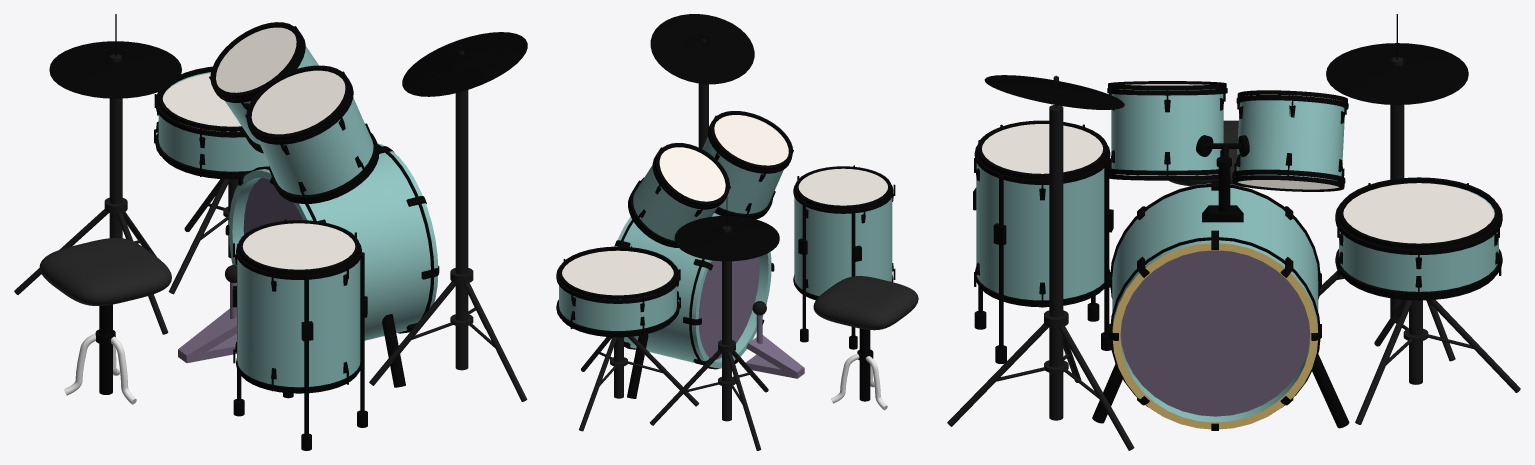
The model's file is drum set-01.fbx.
The picture shows the model from 3 angles, left to right: view 1: azimuth 30°, elevation 25°; view 2: azimuth 150°, elevation 25°; view 3: azimuth 270°, elevation 25°; orthographic projection. The views are drawn at different scales.
Visible parts, largest first — view 1: Cylinder_11_2, Cylinder_13_2, Subdivision_Surface_1, Disc_2, Cylinder_14_2, Disc, Cylinder_1_13, Cylinder_1_11, Cylinder_4_3, Cylinder_1_15, Cylinder_17, Cylinder_16 (+25 smaller); view 2: Cylinder_11_2, Cylinder_13_2, Disc, Subdivision_Surface_1, Cylinder_16, Disc_2, Cylinder_17, Cylinder_1_13, Cylinder_1_11, Cylinder_1_15, Cylinder_15, Cylinder_14_2 (+21 smaller); view 3: Cylinder_11_2, Cylinder_13_2, Cylinder_14_2, Cylinder_16, Cylinder_15, Disc_2, Cylinder_17, Cylinder_4_3, Cylinder_1_11, Disc, Tube_2_7, Tube_3 (+27 smaller).
Part boxes in pixels (x1,y1,x2,y2): Cylinder_11_2: (229,143,438,340); Cylinder_13_2: (237,259,360,387); Subdivision_Surface_1: (39,238,171,305); Disc_2: (49,41,181,97); Cylinder_14_2: (258,98,373,195); Disc: (402,32,527,96); Cylinder_1_13: (251,70,345,134); Cylinder_1_11: (242,223,355,269); Cylinder_4_3: (455,90,468,370); Cylinder_1_15: (216,27,296,92); Cylinder_17: (158,72,268,171); Cylinder_16: (162,73,241,131); Cylinder_11_2: (615,213,771,368); Cylinder_13_2: (794,197,892,296); Disc: (650,14,754,84); Subdivision_Surface_1: (813,276,918,330); Cylinder_16: (562,250,673,295); Disc_2: (674,215,779,260); Cylinder_17: (559,285,676,330); Cylinder_1_13: (714,115,788,165); Cylinder_1_11: (798,168,887,205); Cylinder_1_15: (659,147,725,201); Cylinder_15: (633,165,717,240); Cylinder_14_2: (702,137,783,213); Cylinder_11_2: (1112,183,1318,429); Cylinder_13_2: (976,163,1104,300); Cylinder_14_2: (1111,89,1223,170); Cylinder_16: (1343,183,1494,243); Cylinder_15: (1236,100,1344,180); Disc_2: (1326,43,1468,103); Cylinder_17: (1339,183,1498,291); Cylinder_4_3: (1049,105,1063,420); Cylinder_1_11: (982,124,1102,173); Disc: (984,75,1124,109); Tube_2_7: (1338,177,1499,249); Tube_3: (977,120,1107,179).
Size of the model in its own units: 825 by 705 by 969.
